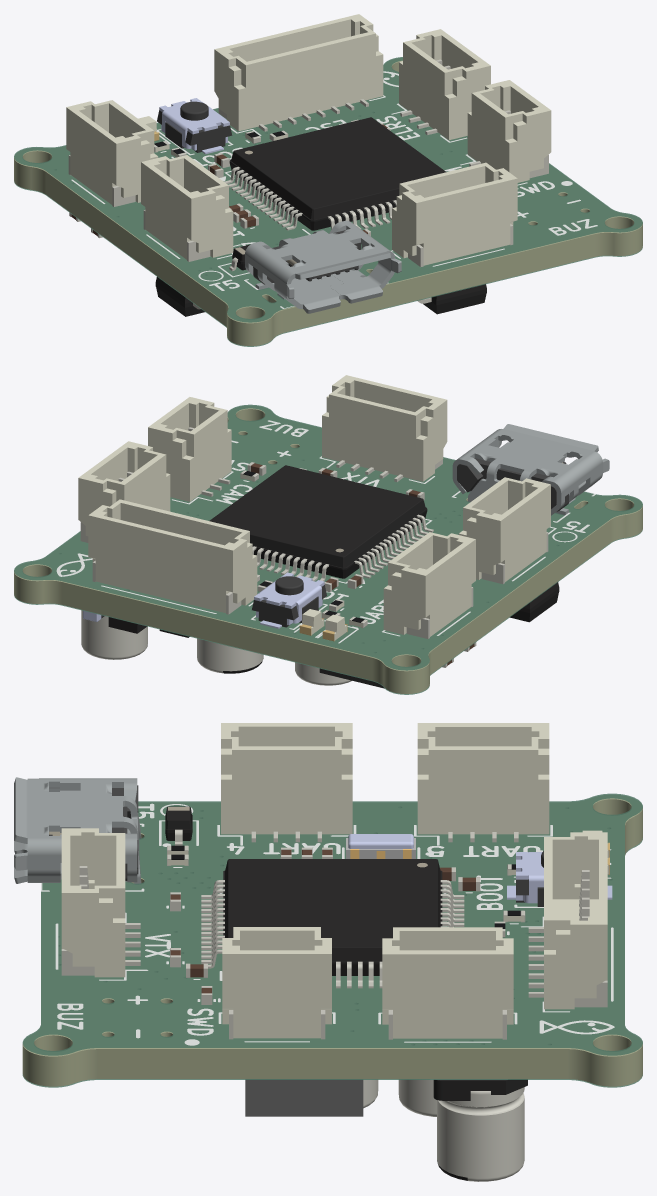
3 views of the same model, one above another, from view 1: azimuth 30°, elevation 25°; view 2: azimuth 150°, elevation 25°; view 3: azimuth 270°, elevation 25° (orthographic). The views are drawn at different scales.
Visible parts, largest first — view 1: =>[0:1:1:28], =>[0:1:1:26], U1, J5, J4, shield:1, J9, J2, J8, J1, SW2, =>[0:1:1:24] (+3 smaller); view 2: =>[0:1:1:28], =>[0:1:1:26], U1, J5, J4, J8, J9, shield:1, J1, J2, SW2, =>[0:1:1:24] (+8 smaller); view 3: =>[0:1:1:28], =>[0:1:1:26], U1, J8, J9, J2, J5, J1, J4, shield:1, C27, =>[0:1:1:24] (+6 smaller).
Boxes of the visible parts, box(x1,y1,x2,y2) form: =>[0:1:1:28]: box(14, 58, 642, 346); =>[0:1:1:26]: box(14, 57, 642, 322); U1: box(224, 117, 446, 230); J5: box(214, 14, 383, 131); J4: box(392, 162, 517, 266); shield:1: box(245, 220, 401, 313); J9: box(141, 155, 233, 261); J2: box(399, 29, 490, 140); J8: box(66, 100, 158, 206); J1: box(467, 80, 551, 182); SW2: box(157, 98, 232, 154); =>[0:1:1:24]: box(71, 71, 597, 308); =>[0:1:1:28]: box(14, 406, 642, 693); =>[0:1:1:26]: box(14, 404, 642, 670); U1: box(209, 465, 433, 581); J5: box(88, 499, 257, 614); J4: box(322, 375, 447, 481); J8: box(383, 532, 475, 638); J9: box(458, 477, 550, 584); shield:1: box(452, 424, 609, 515); J1: box(148, 397, 231, 501); J2: box(78, 441, 170, 542); SW2: box(252, 572, 326, 628); =>[0:1:1:24]: box(56, 420, 596, 643); =>[0:1:1:28]: box(22, 795, 642, 1086); =>[0:1:1:26]: box(22, 793, 642, 1055); U1: box(201, 859, 464, 988); J8: box(417, 723, 549, 842); J9: box(221, 723, 352, 842); J2: box(382, 927, 513, 1039); J5: box(528, 832, 607, 1009); J1: box(222, 927, 331, 1039); J4: box(61, 828, 140, 977); shield:1: box(14, 777, 141, 884); C27: box(433, 1079, 527, 1181); =>[0:1:1:24]: box(41, 803, 614, 1045).
Bounding box in the file's own units: 0.0283 × 0.0114 × 0.0287.
